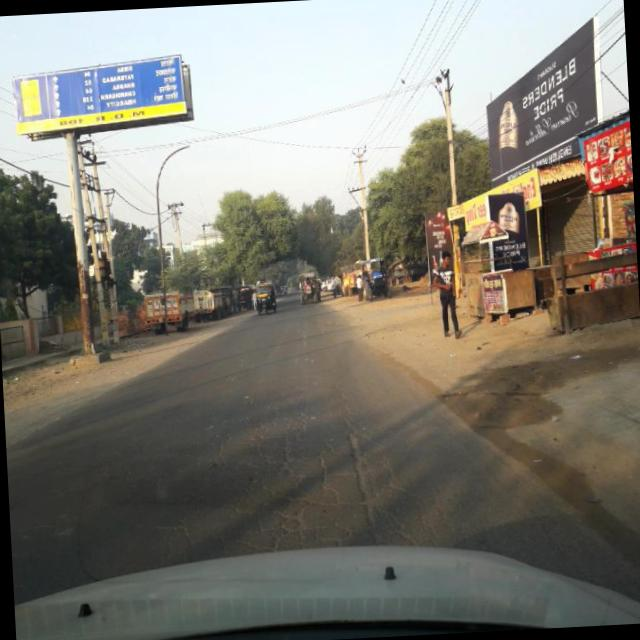crack: (171, 382, 414, 548)
